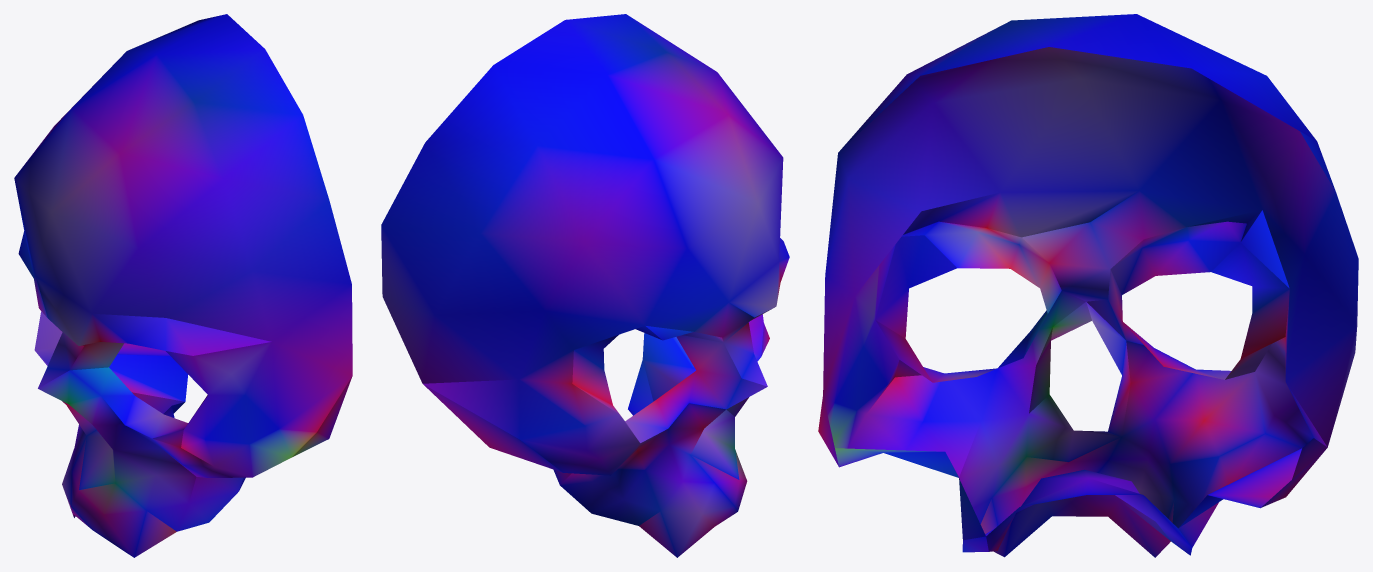
Rendered from sertz__uni_skull.glb.
3 views of the same model, side by side, from view 1: azimuth 30°, elevation 25°; view 2: azimuth 150°, elevation 25°; view 3: azimuth 270°, elevation 25° (orthographic). The views are drawn at different scales.
Visible parts, largest first — view 1: uni_skull; view 2: uni_skull; view 3: uni_skull.
Boxes of the visible parts, x1,y1,x2,y2 form: uni_skull: [14, 14, 352, 557]; uni_skull: [381, 14, 789, 557]; uni_skull: [818, 14, 1358, 557].
Size of the model in its own units: 74.51 by 119 by 96.03.
